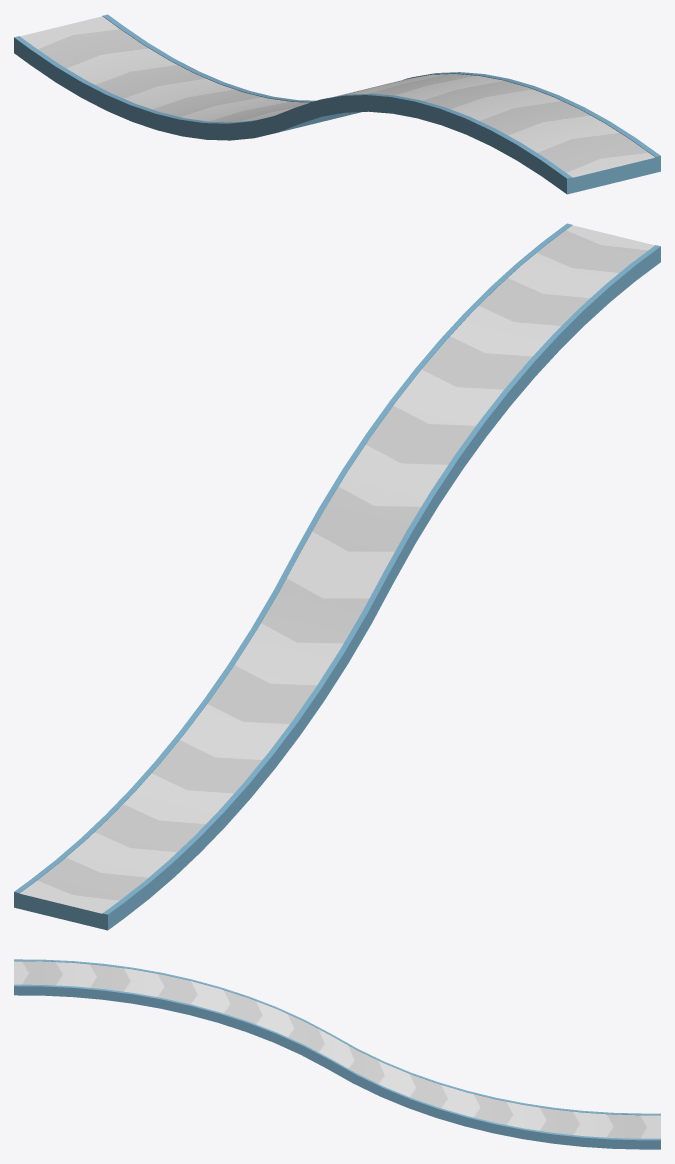
File: platform_DOWN-2.fbx
The picture shows the model from 3 angles, top to bottom: view 1: azimuth 30°, elevation 25°; view 2: azimuth 150°, elevation 25°; view 3: azimuth 270°, elevation 25°; orthographic projection. The views are drawn at different scales.
Parts seen in each view (by area): view 1: platform-down-2; view 2: platform-down-2; view 3: platform-down-2.
Boxes of the visible parts, x1,y1,x2,y2 form: platform-down-2: (14,14,660,194); platform-down-2: (14,223,660,930); platform-down-2: (14,959,660,1149).
Bounding box in the file's own units: 6.41 × 18.21 × 65.36.
